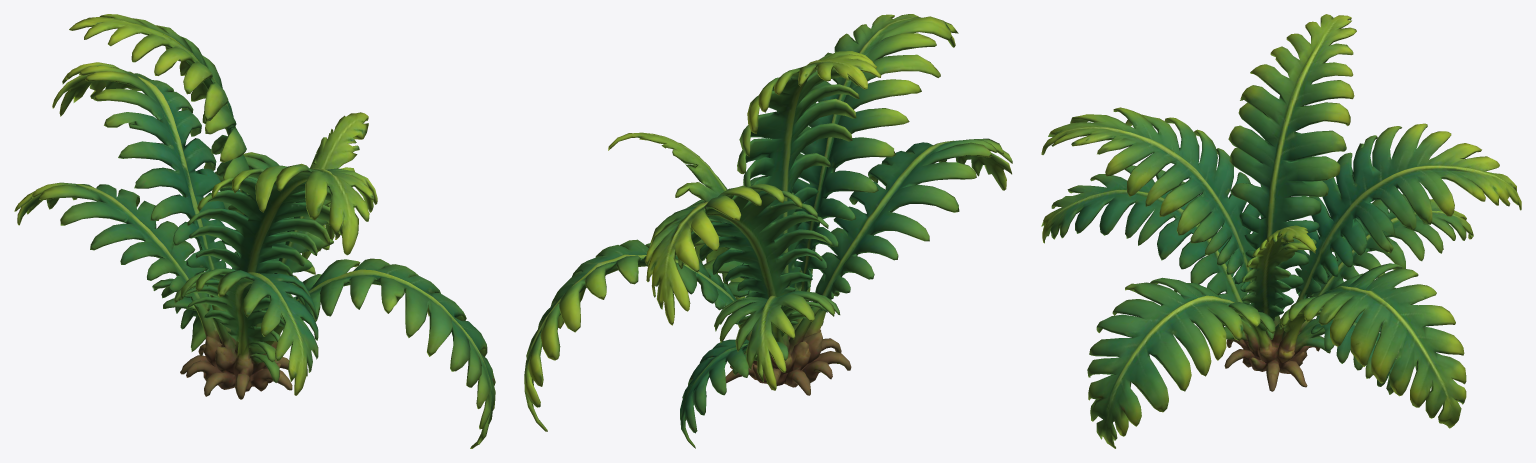
The model's file is pack-palm-plant.glb.
3 views of the same model, side by side, from view 1: azimuth 30°, elevation 25°; view 2: azimuth 150°, elevation 25°; view 3: azimuth 270°, elevation 25° (orthographic). The views are drawn at different scales.
Parts seen in each view (by area): view 1: tripo_node_509485b1-c01b-489f-b59c-0f237443ed76; view 2: tripo_node_509485b1-c01b-489f-b59c-0f237443ed76; view 3: tripo_node_509485b1-c01b-489f-b59c-0f237443ed76.
Part boxes in pixels (<box>): tripo_node_509485b1-c01b-489f-b59c-0f237443ed76: <box>14,14,495,448</box>; tripo_node_509485b1-c01b-489f-b59c-0f237443ed76: <box>524,14,1012,448</box>; tripo_node_509485b1-c01b-489f-b59c-0f237443ed76: <box>1041,14,1521,448</box>.
Size of the model in its own units: 0.5946 by 0.7437 by 0.9769.
1 material, 1 textured.
